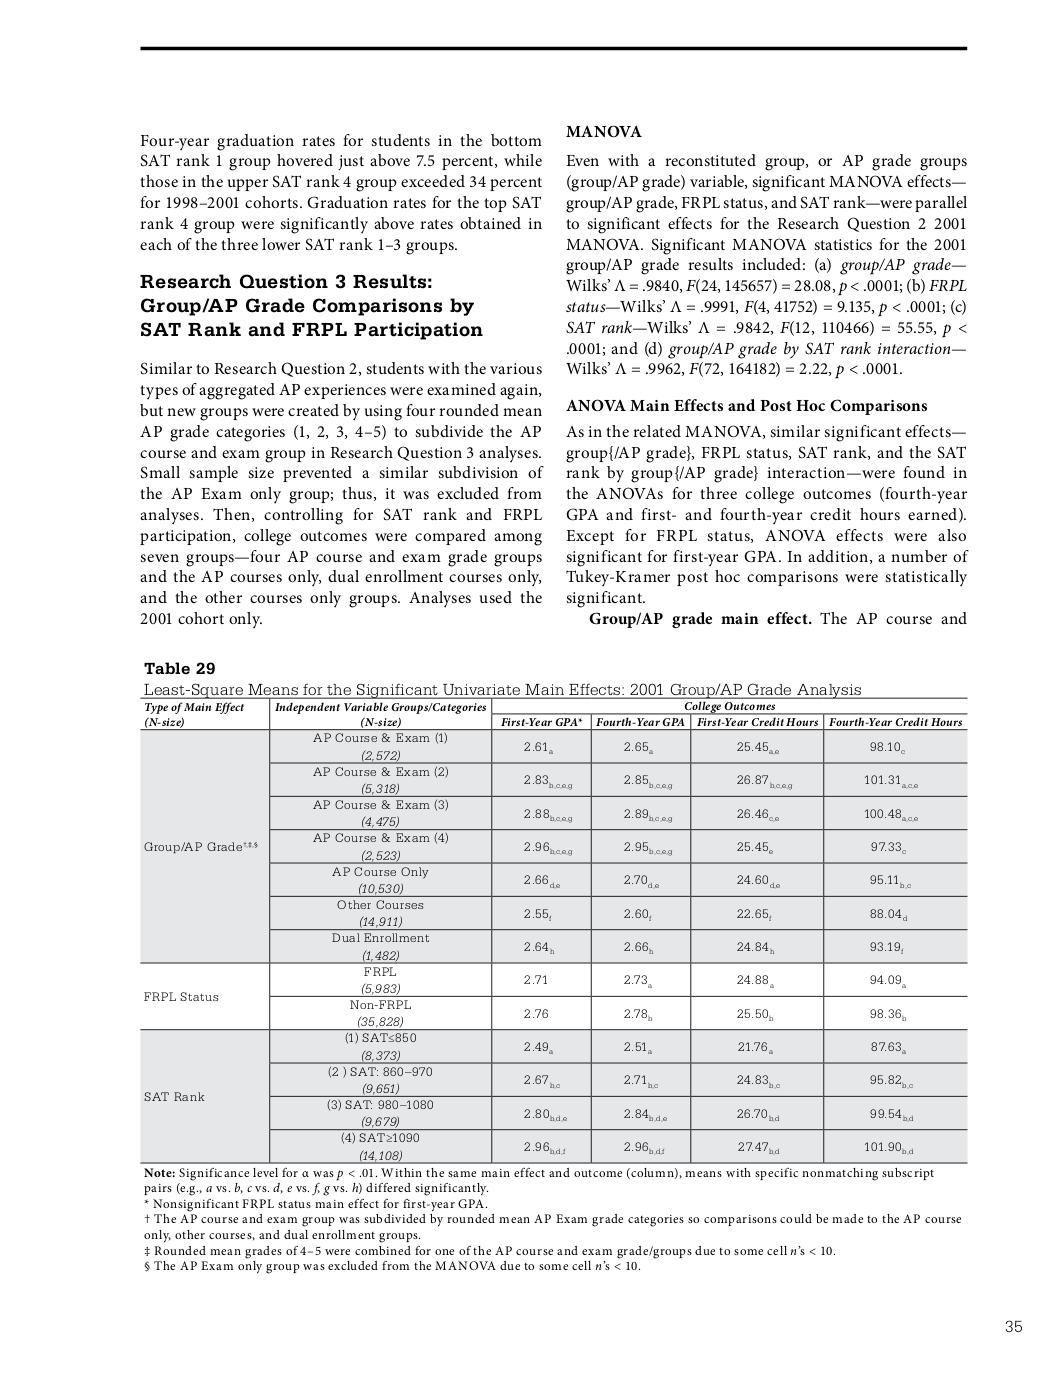Table: (140, 682, 967, 1163)
